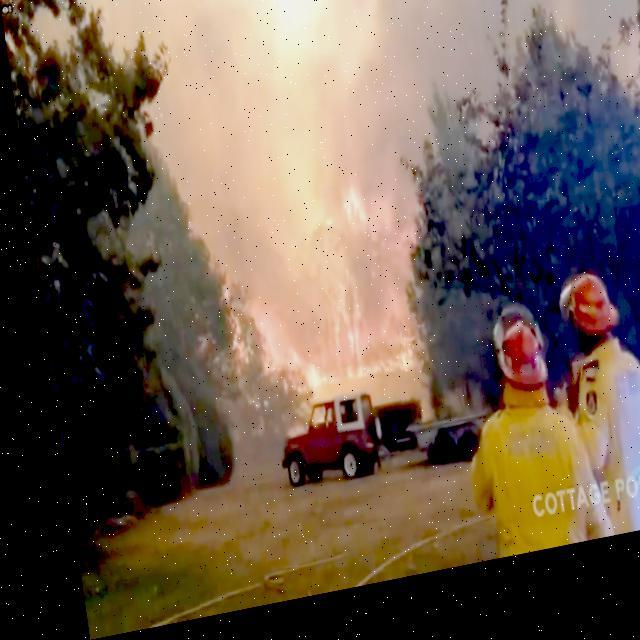Fire: (314, 286, 356, 368), (330, 350, 404, 395), (287, 366, 328, 402), (332, 199, 359, 240)
